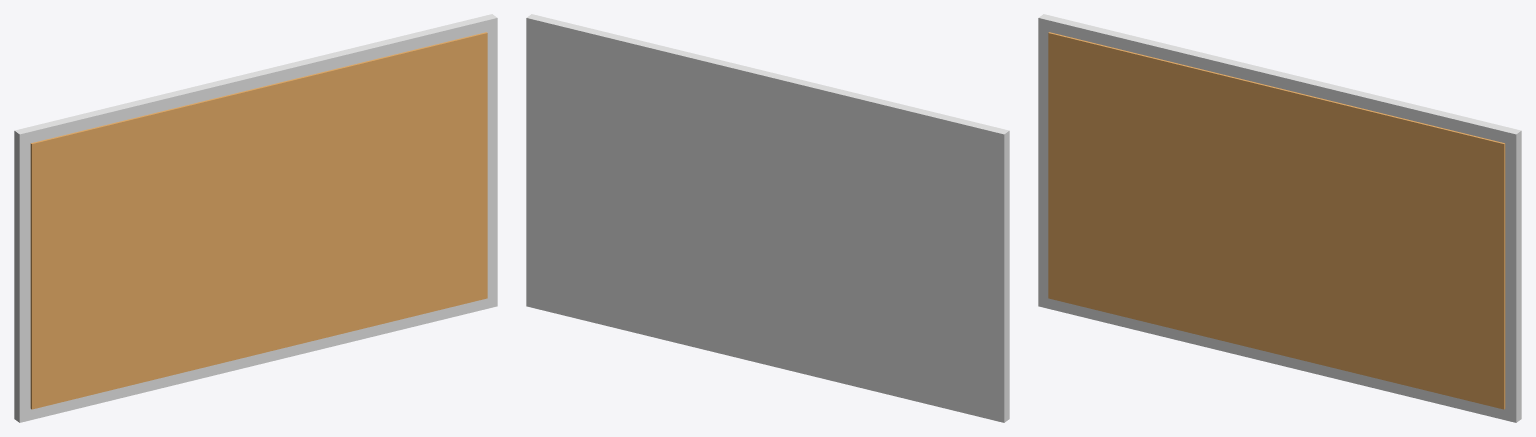
File: ProjectionSheet.obj
3 renders of one model, left to right at view 1: azimuth 30°, elevation 25°; view 2: azimuth 150°, elevation 25°; view 3: azimuth 330°, elevation 25°, orthographic.
Visible parts, largest first — view 1: ProjectionSheet; view 2: ProjectionSheet; view 3: ProjectionSheet.
Part boxes in pixels (bbox=[...]): ProjectionSheet: bbox=[14, 14, 497, 422]; ProjectionSheet: bbox=[526, 14, 1009, 422]; ProjectionSheet: bbox=[1038, 14, 1521, 422].
Bounding box in the file's own units: 2.6 × 1.5 × 0.061.
Materials: 1 (1 with a texture image).
